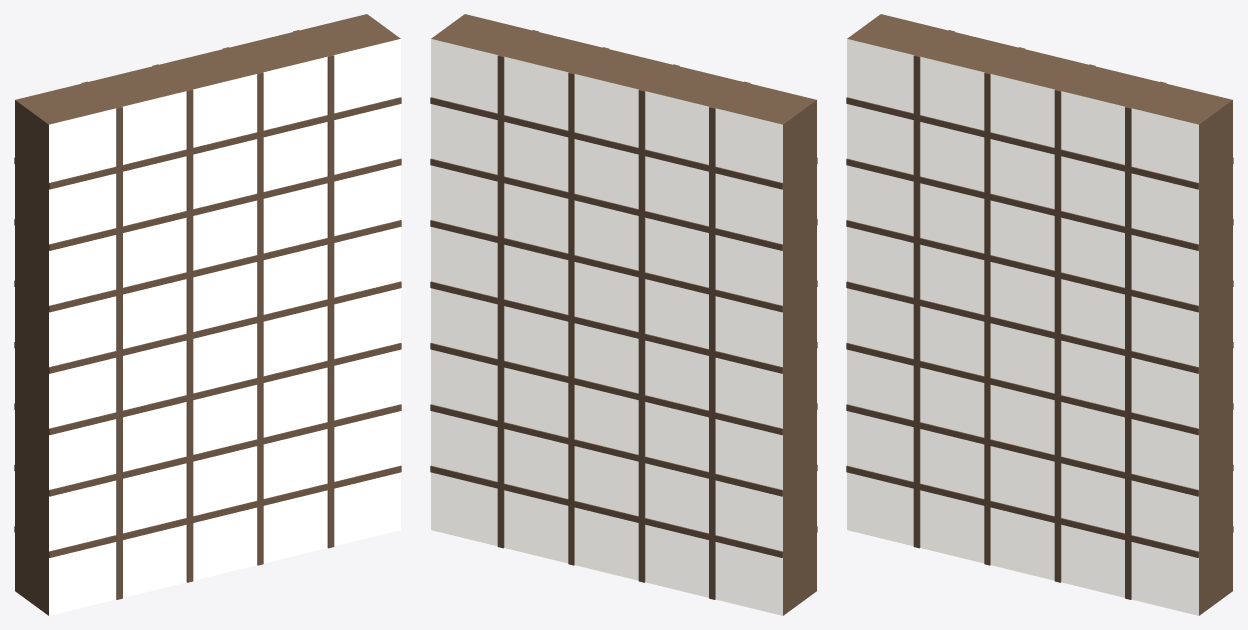
The model's file is Porte_Japonaise.glb.
3 views of the same model, side by side, from view 1: azimuth 30°, elevation 25°; view 2: azimuth 150°, elevation 25°; view 3: azimuth 330°, elevation 25° (orthographic).
Parts seen in each view (by area): view 1: PorteJaponaise; view 2: PorteJaponaise; view 3: PorteJaponaise.
Boxes of the visible parts, left/top/right/bottom form: PorteJaponaise: left=14, top=14, right=401, bottom=615; PorteJaponaise: left=430, top=14, right=817, bottom=615; PorteJaponaise: left=846, top=14, right=1233, bottom=615.
Bounding box in the file's own units: 3 × 4 × 0.52.
